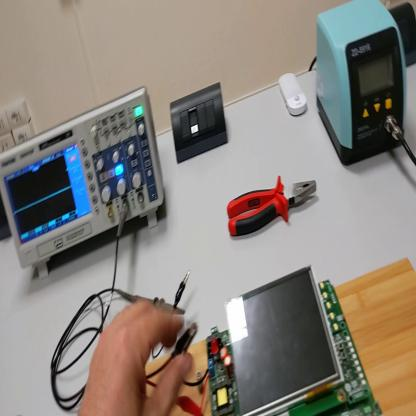hand: (81, 299, 195, 416)
low voltage board: (184, 281, 384, 414)
oscilloscope: (2, 84, 164, 281)
oscilloscope probe tip: (116, 291, 180, 317)
pliers: (229, 174, 318, 238)
socket: (388, 5, 416, 68), (1, 196, 14, 242)
welder station: (316, 2, 409, 169)
working area: (146, 258, 416, 416)
